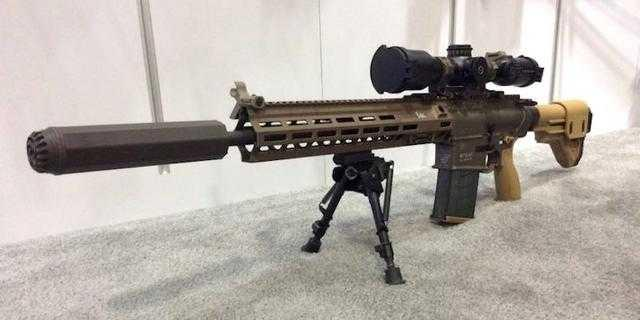heavyweapon: (13, 44, 618, 229)
